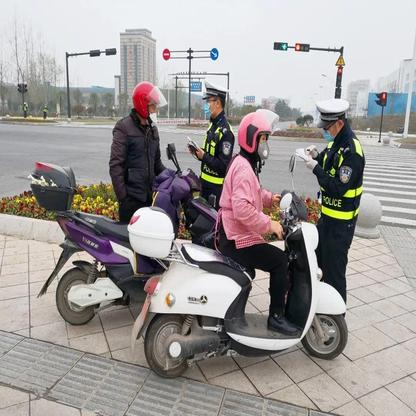target: (129, 110, 349, 380), (27, 80, 190, 325)
